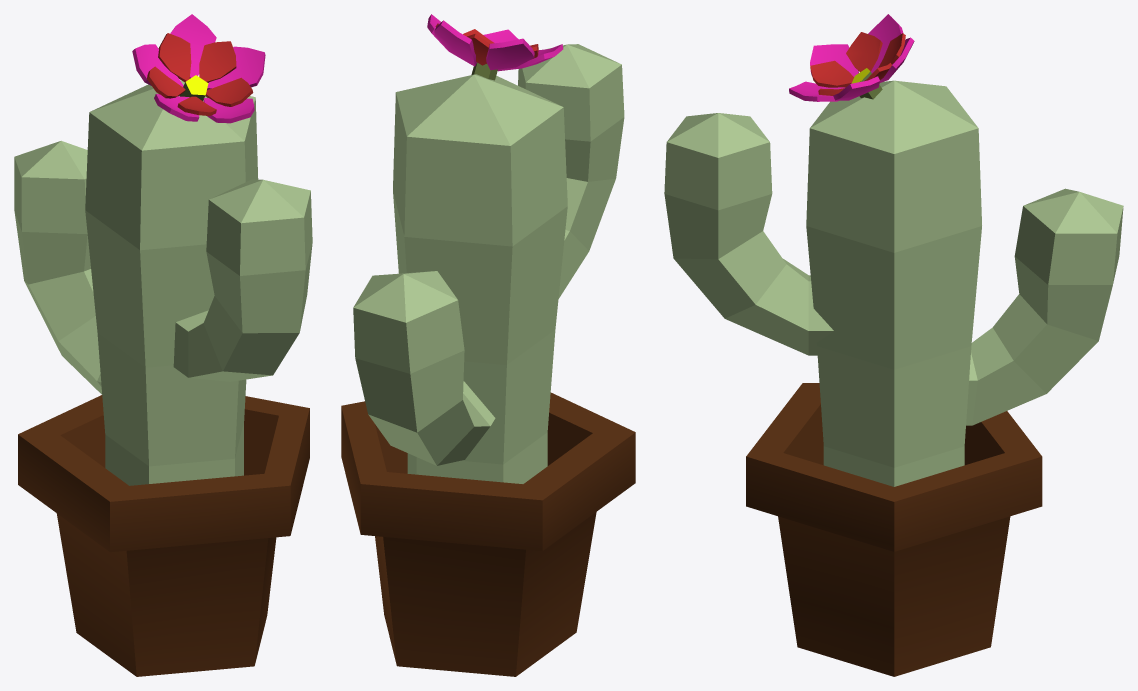
Rendered from g_o_Cactus.fbx.
3 views of the same model, side by side, from view 1: azimuth 30°, elevation 25°; view 2: azimuth 150°, elevation 25°; view 3: azimuth 270°, elevation 25° (orthographic).
Visible parts, largest first — view 1: Flowerpot6; view 2: Flowerpot6; view 3: Flowerpot6.
Boxes of the visible parts, x1,y1,x2,y2 form: Flowerpot6: (14,14,312,676); Flowerpot6: (341,14,635,676); Flowerpot6: (664,14,1123,676).
Size of the model in its own units: 0.8274 by 1.97 by 1.35.
Materials: 1 (1 with a texture image).
